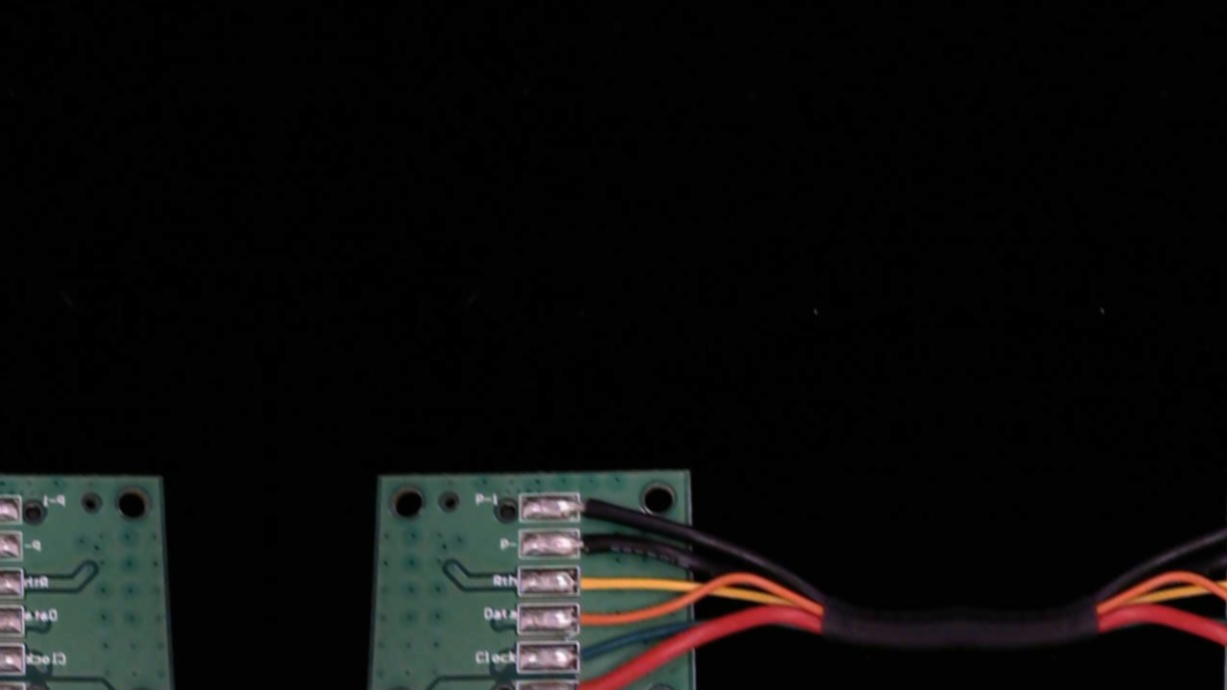Black: (558, 527, 629, 560)
Black1: (560, 490, 625, 522)
Green: (553, 639, 620, 672)
Orange: (558, 604, 627, 635)
Red: (558, 678, 625, 690)
Yellow: (560, 563, 631, 596)
